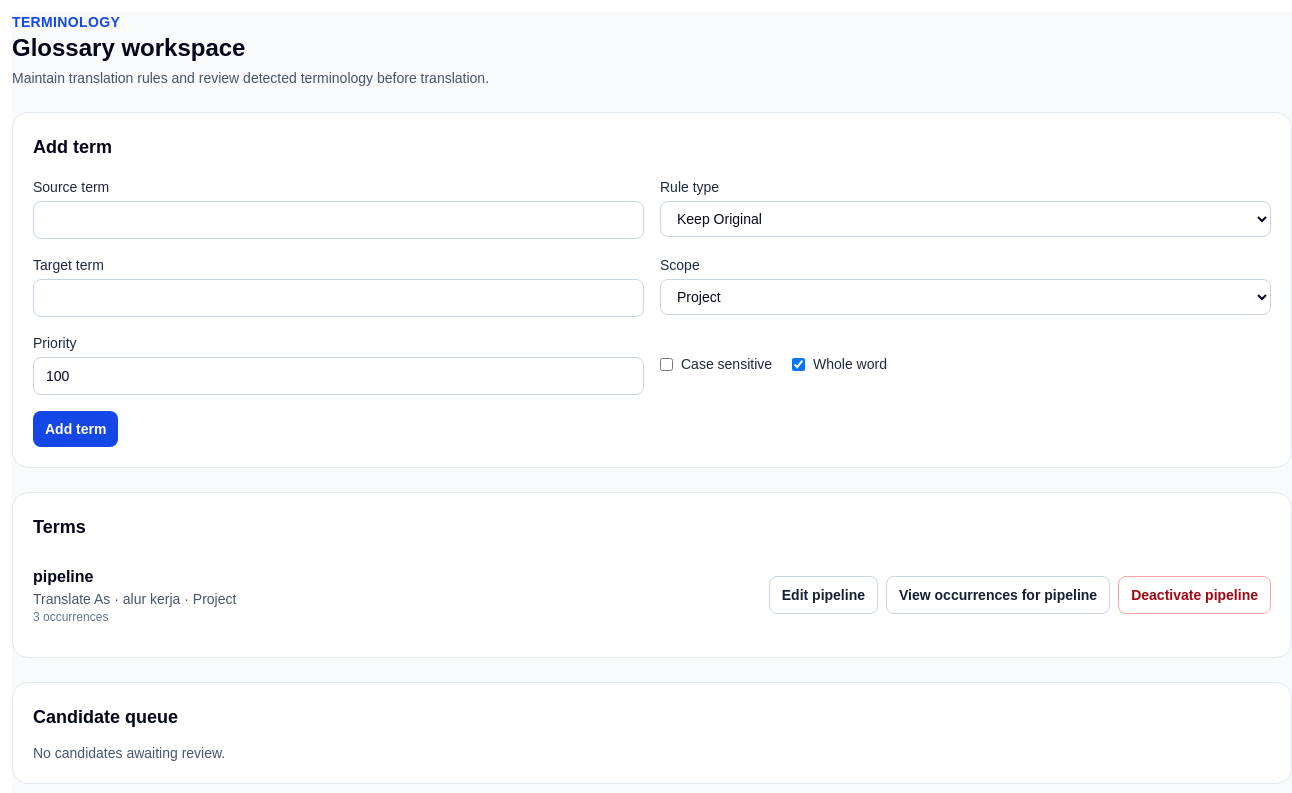
Test case: glossary workspace › creates workflow as KEEP_ORIGINAL and edits an existing term
Expected: the text "pipeline" is shown, [33,568,94,585]
In the field labelled "Source term": {"x": 338, "y": 220} [33,201,644,239], type "workflow"
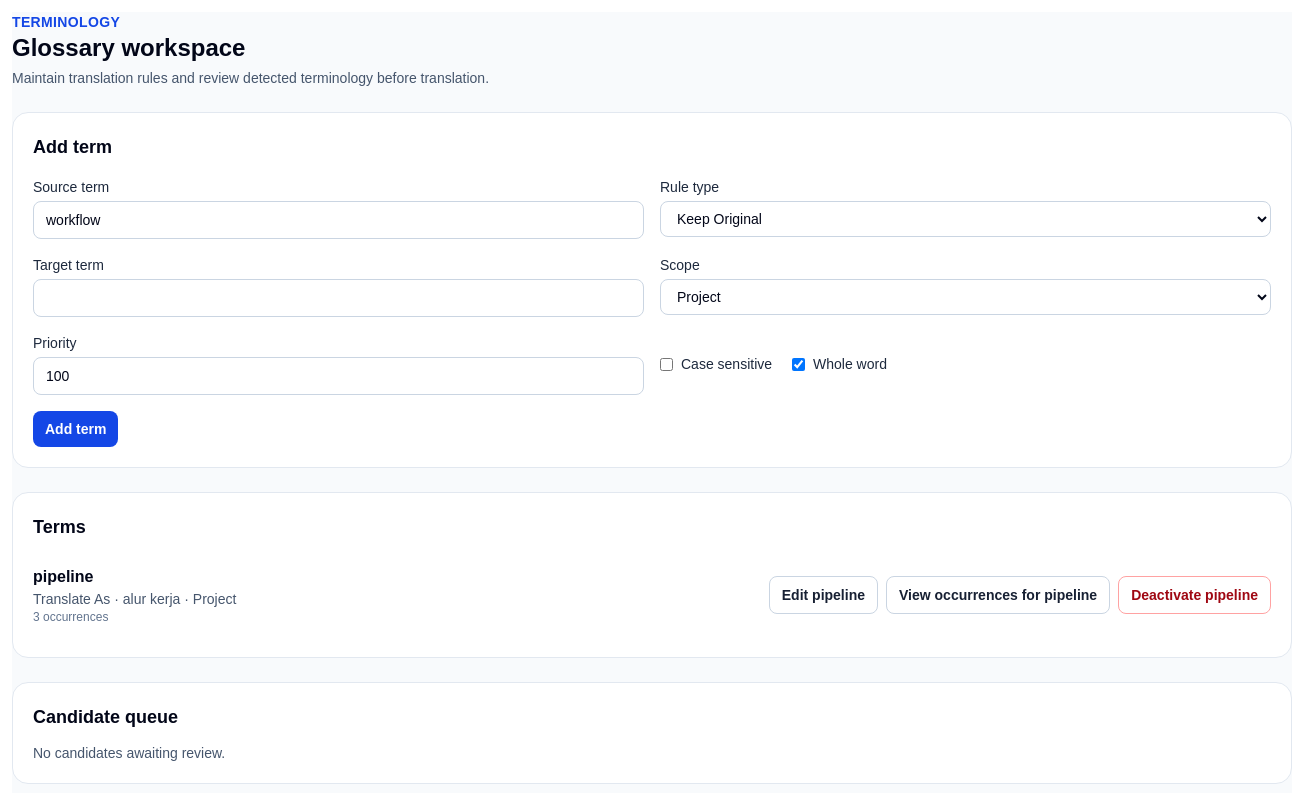
Click the button "Add term": {"x": 76, "y": 429} [33,411,118,447]
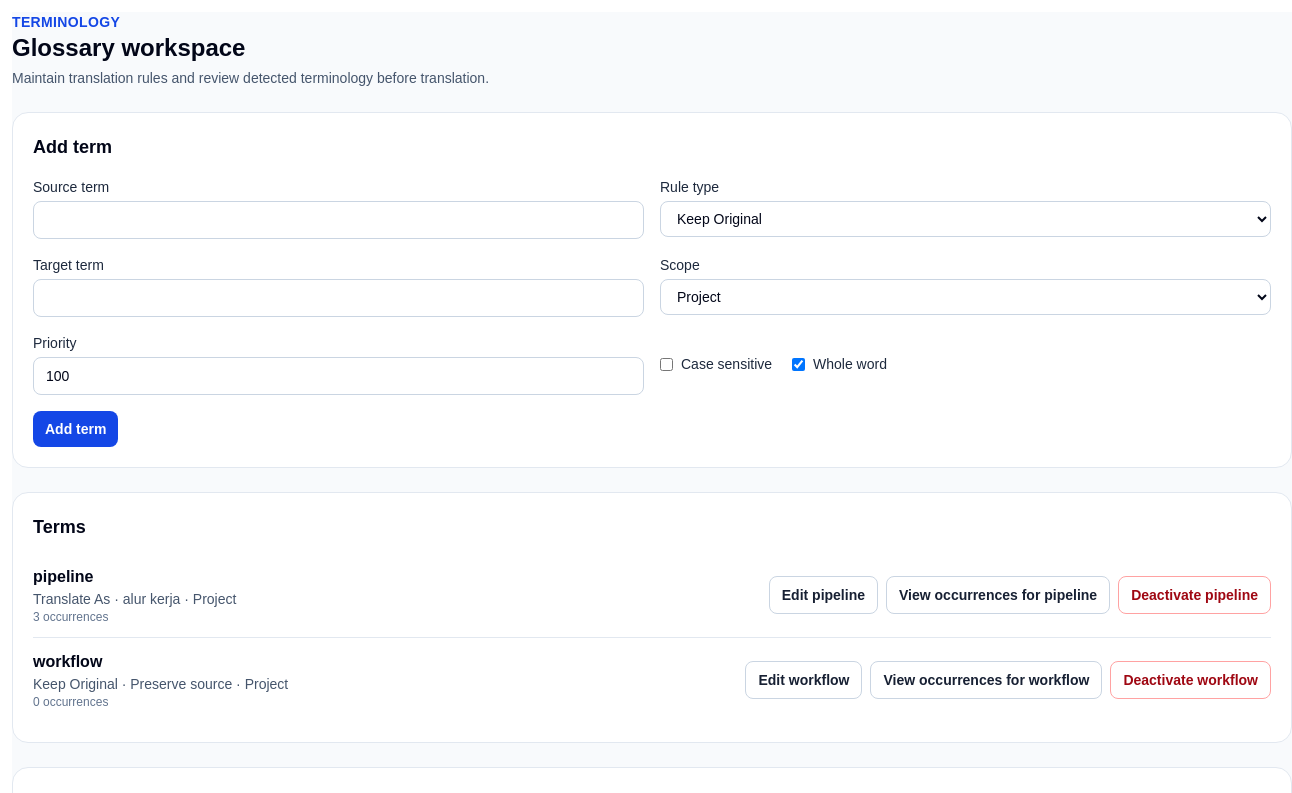
Expected: the text "workflow" is shown, [33,653,102,670]
Click the button "Edit pipeline": {"x": 823, "y": 595} [769,576,878,614]
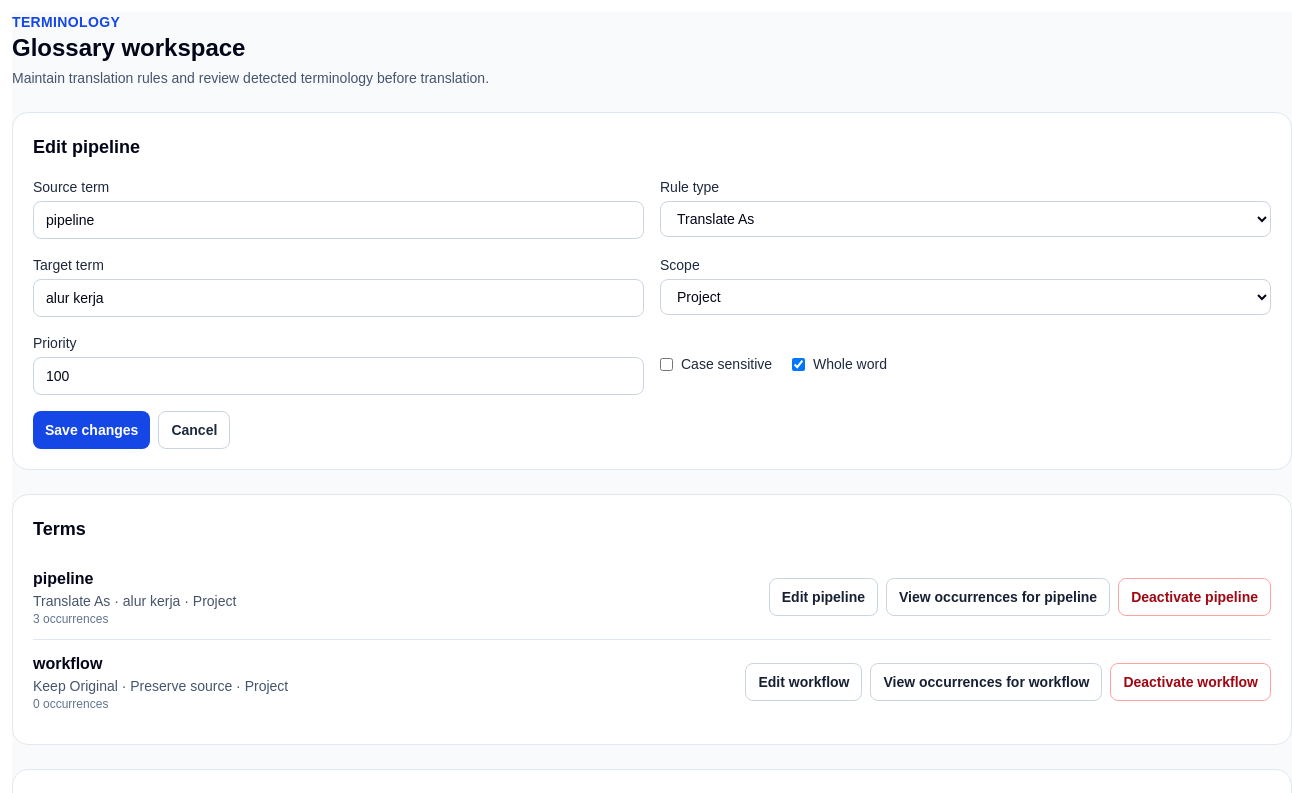
Replace the text in the field labelled "Target term" with "saluran": {"x": 338, "y": 298} [33,279,644,317]
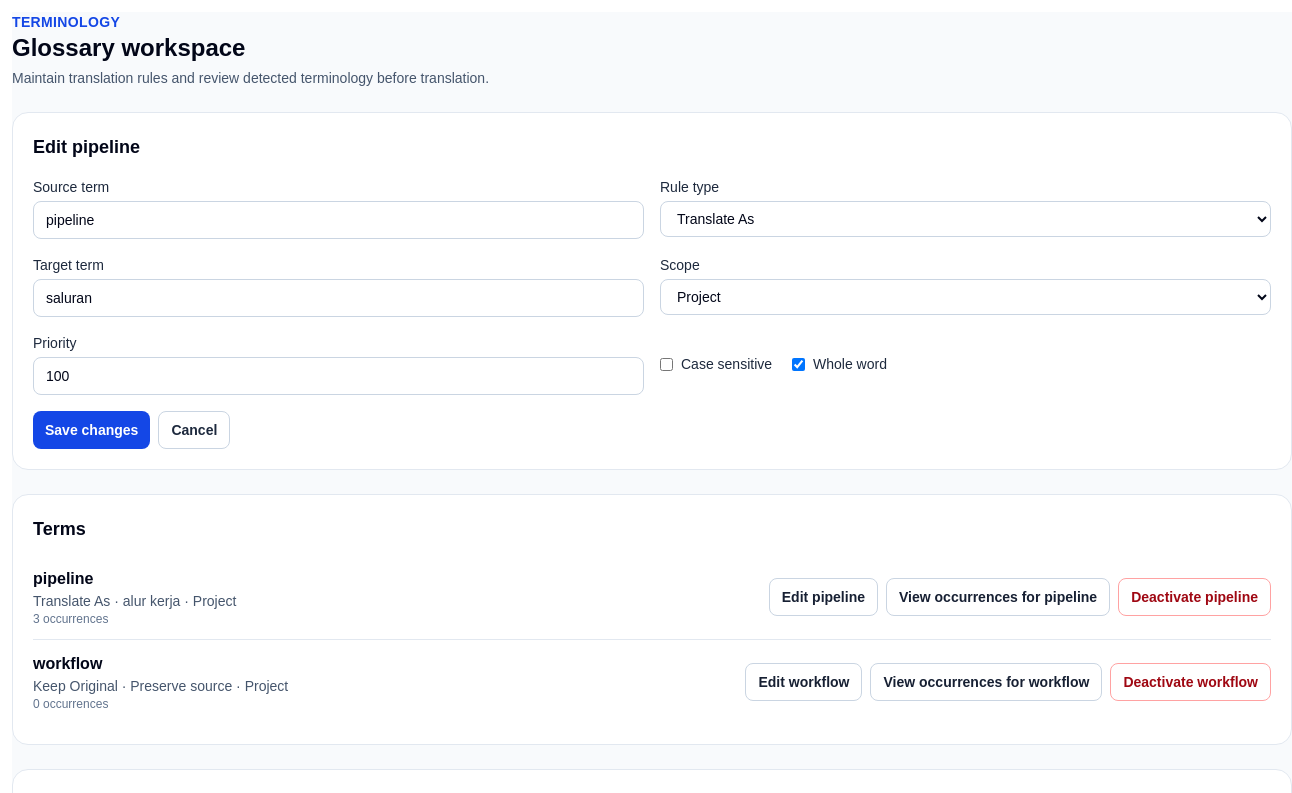
Click the button "Save changes": {"x": 92, "y": 430} [33,411,150,449]
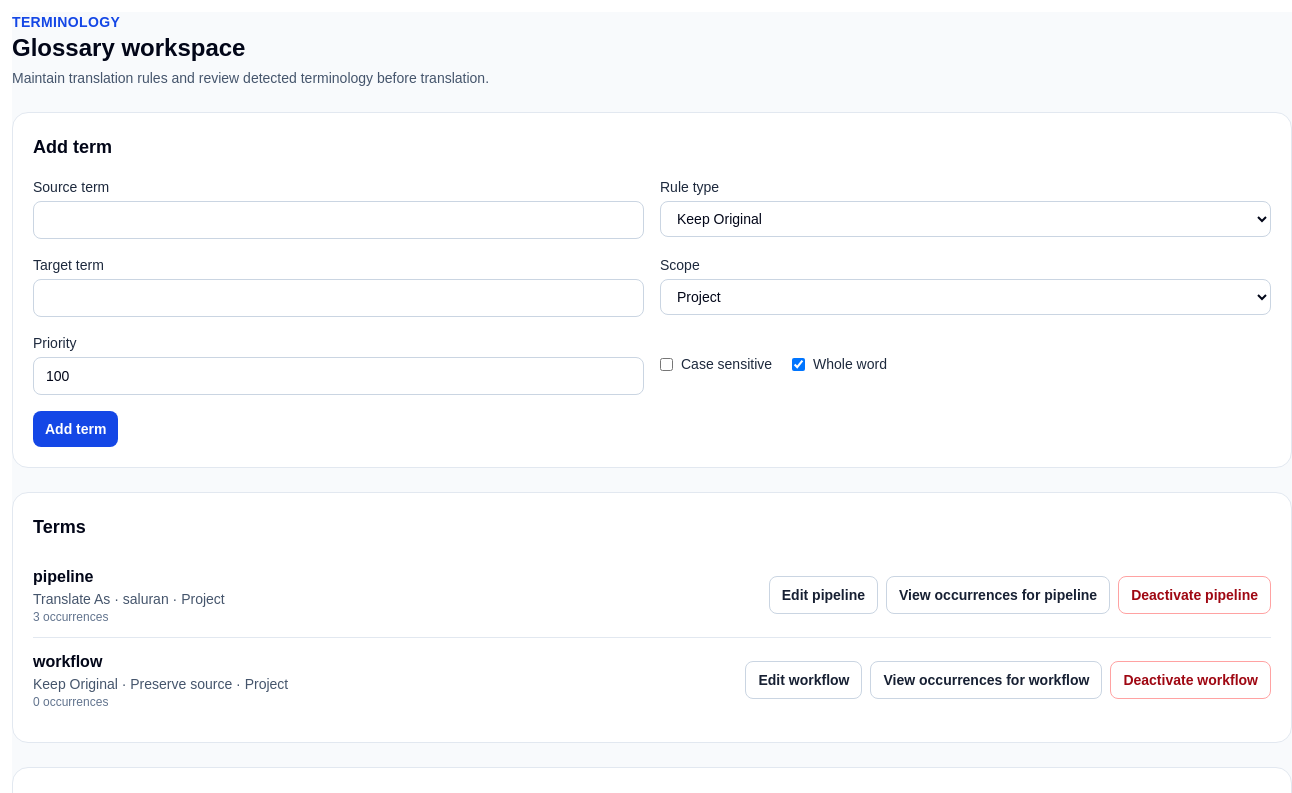
Click the button "Deactivate pipeline": {"x": 1195, "y": 595} [1118,576,1271,614]
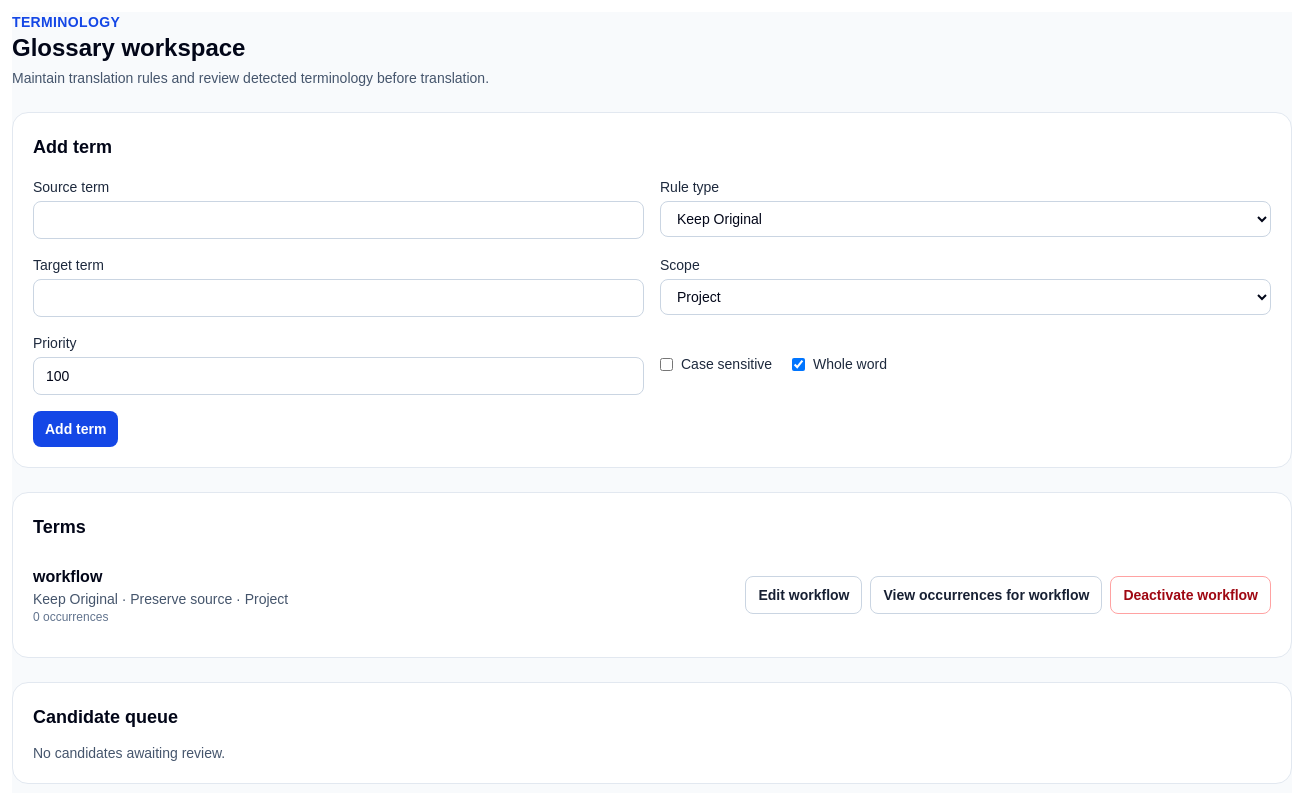
Expected: the button "Edit pipeline" is gone
